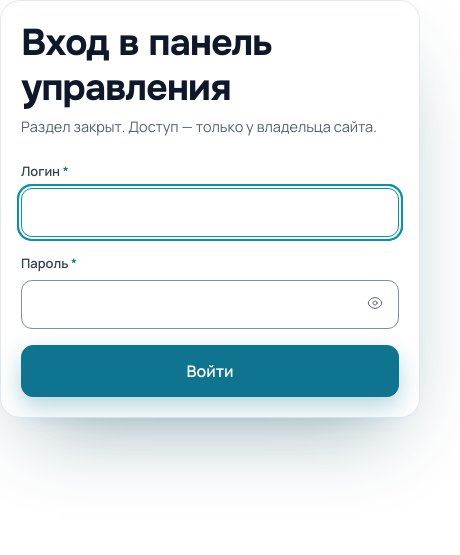
Scenario: Форма входа в панель › перебор объясняет, когда можно повторить
The image size is (460, 555).
Type "admin" into the field labelled "Логин" at (210, 212), box [21,188,399,237]
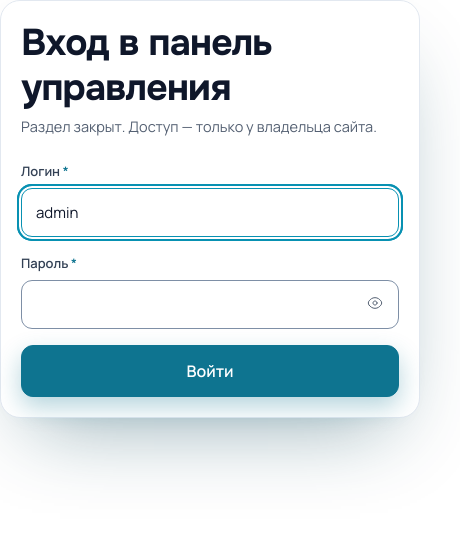
Type "секрет" into the password field labelled "Пароль" at (210, 305), box [21,280,399,329]
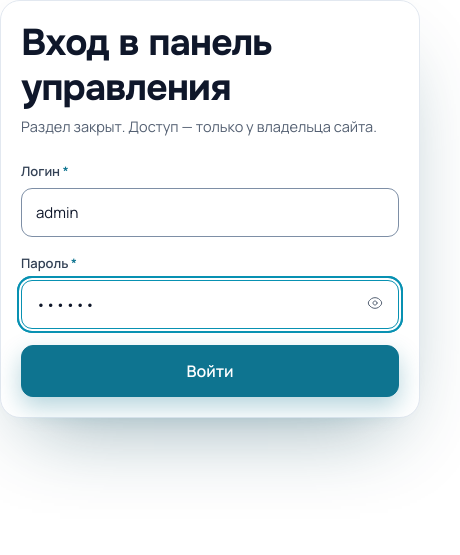
Click the button "Войти" at (210, 371), box [21,345,399,397]
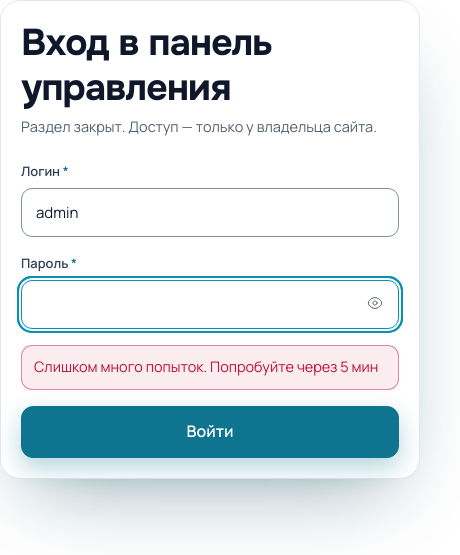
Expected: the message shows "5 мин", [34,357,378,376]
